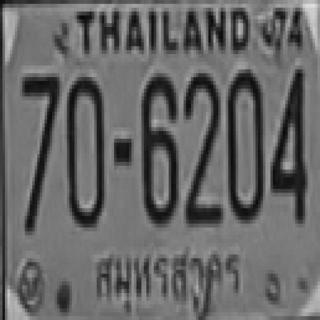N00: (64, 73, 102, 224), (226, 69, 263, 220)
N02: (184, 71, 218, 222), (184, 71, 218, 210)
N04: (268, 66, 305, 220)
N06: (139, 71, 176, 222)
N07: (20, 71, 57, 229), (20, 73, 57, 200), (20, 71, 57, 175)
P58: (89, 243, 246, 306)
